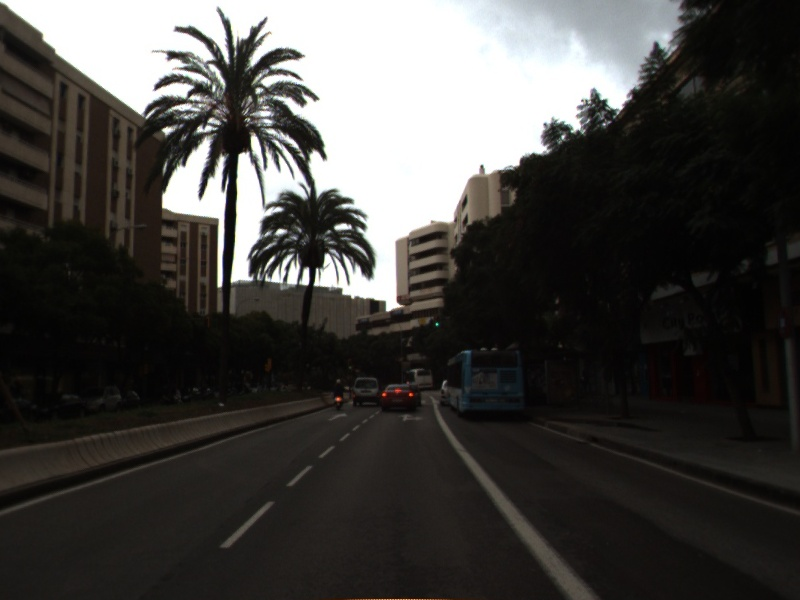STRAIGHT: (326, 410, 350, 423)
STRAIGHT_RIGHT: (396, 412, 425, 423)
